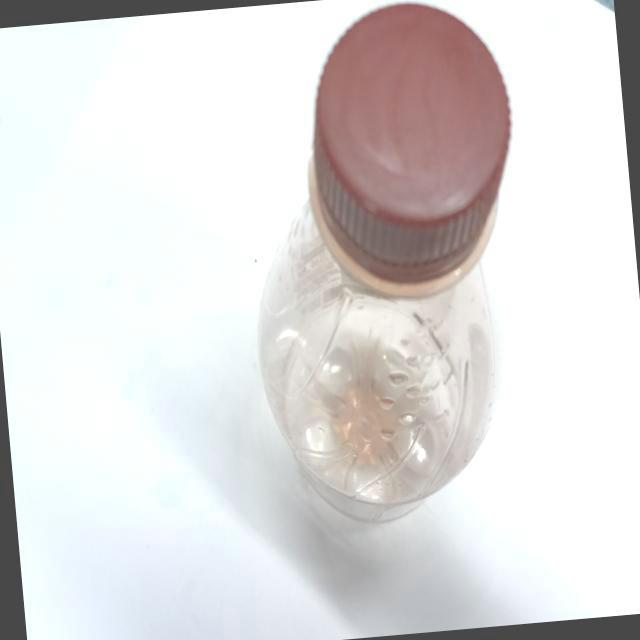plastic: (245, 0, 525, 573)
